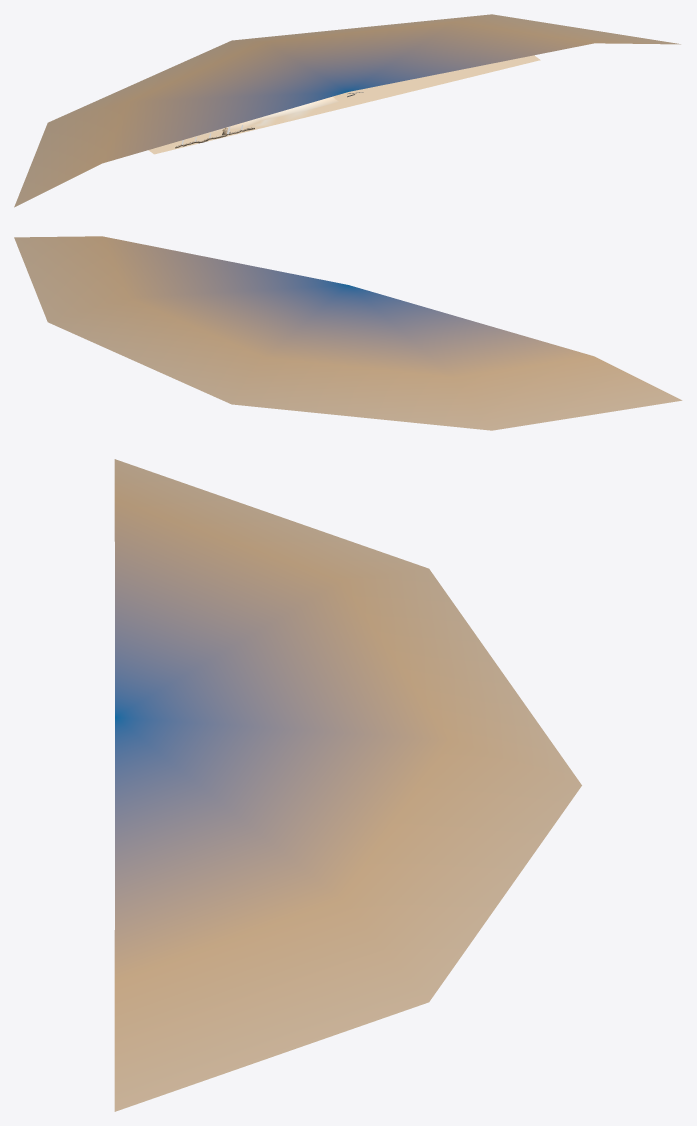
Rendered from Desert 08.fbx.
The picture shows the model from 3 angles, top to bottom: view 1: azimuth 30°, elevation 25°; view 2: azimuth 150°, elevation 25°; view 3: azimuth 270°, elevation 25°; orthographic projection. The views are drawn at different scales.
Parts seen in each view (by area): view 1: Light_01, Bg_02; view 2: Light_01; view 3: Light_01.
Boxes of the visible parts, box(x1,y1,x2,y2) form: Light_01: box(14, 14, 680, 207); Bg_02: box(148, 55, 540, 154); Light_01: box(14, 236, 682, 430); Light_01: box(114, 459, 581, 1111).
Bounding box in the file's own units: 983996 × 47831 × 297667.
